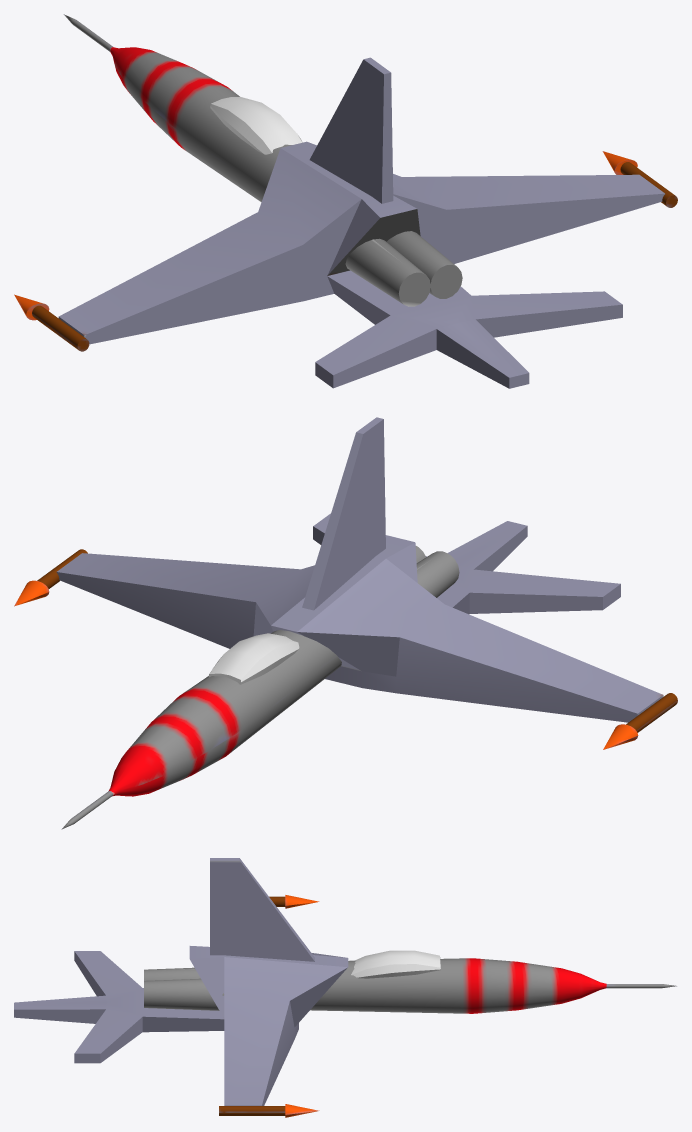
The model's file is JetSetShip.fbx.
3 renders of one model, top to bottom at view 1: azimuth 30°, elevation 25°; view 2: azimuth 150°, elevation 25°; view 3: azimuth 270°, elevation 25°, orthographic. The views are drawn at different scales.
Visible parts, largest first — view 1: JetSet; view 2: JetSet; view 3: JetSet.
Part boxes in pixels (x1,y1,x2,y2): JetSet: (14, 14, 677, 388); JetSet: (14, 417, 677, 829); JetSet: (14, 858, 676, 1117).
Size of the model in its own units: 2225 by 761 by 2872.
